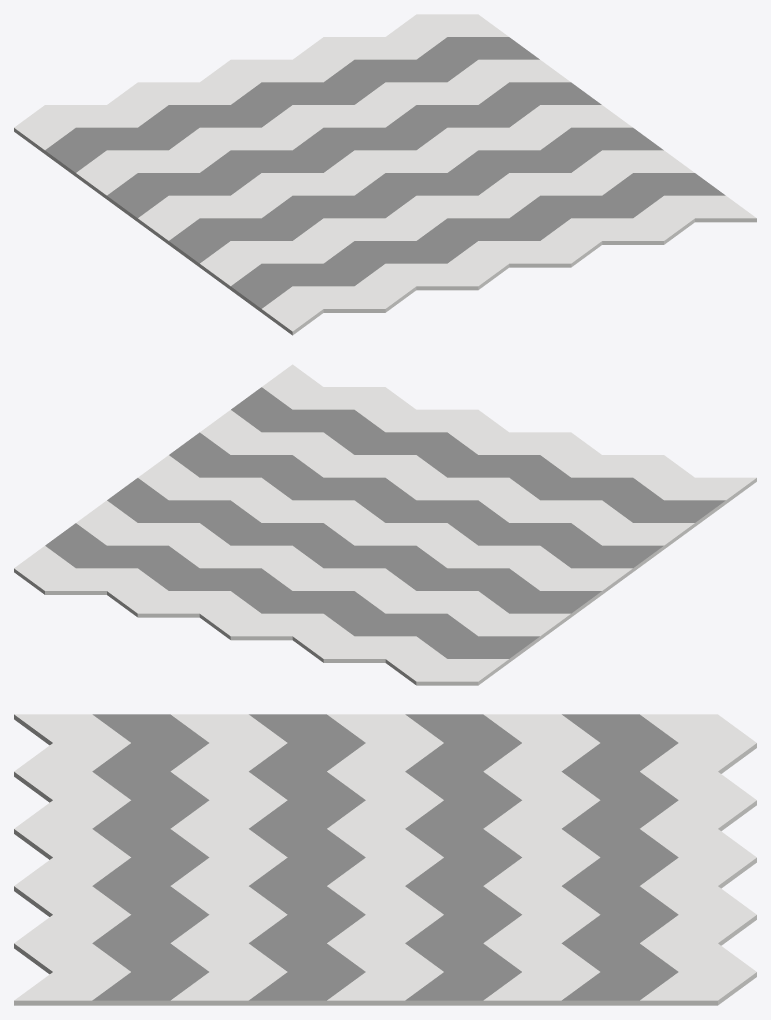
The model's file is Carpet_1.fbx.
3 renders of one model, top to bottom at view 1: azimuth 30°, elevation 25°; view 2: azimuth 150°, elevation 25°; view 3: azimuth 270°, elevation 25°, orthographic. The views are drawn at different scales.
Visible parts, largest first — view 1: Carpet_1; view 2: Carpet_1; view 3: Carpet_1.
Boxes of the visible parts, x1,y1,x2,y2 form: Carpet_1: [14, 14, 756, 335]; Carpet_1: [14, 364, 756, 685]; Carpet_1: [14, 714, 756, 1005].
Size of the model in its own units: 318 by 349 by 2.59.
